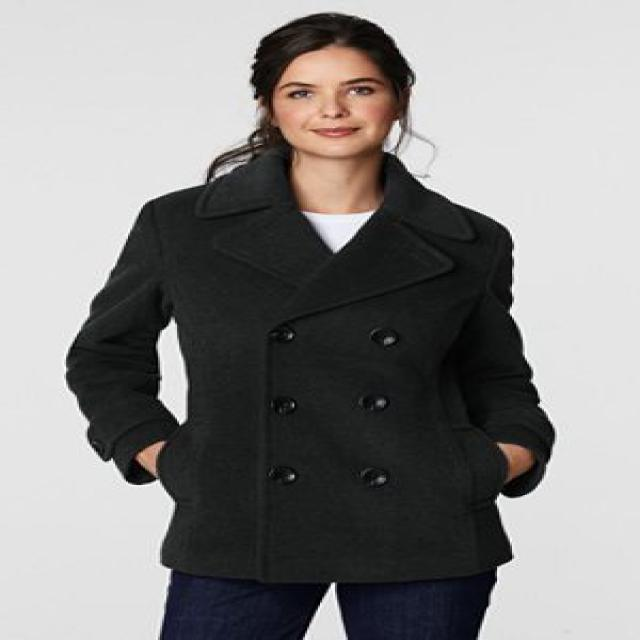coat: (60, 149, 564, 585)
short sleeve shirt: (294, 198, 379, 261)
trousers: (158, 566, 502, 640)
